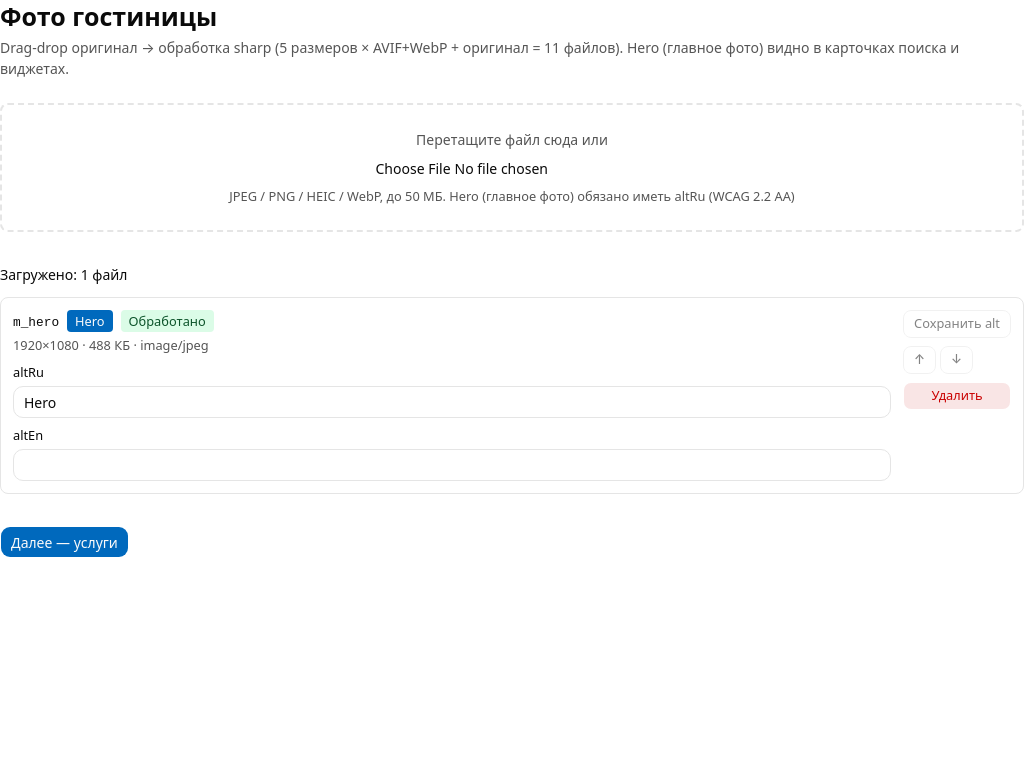
Scenario: <MediaStep> — delete confirm dialog › [Dc4] hero photo → dialog shows extra hero-loss warning
Click the button "Удалить" at (957, 396), box left=903, top=382, right=1011, bottom=410
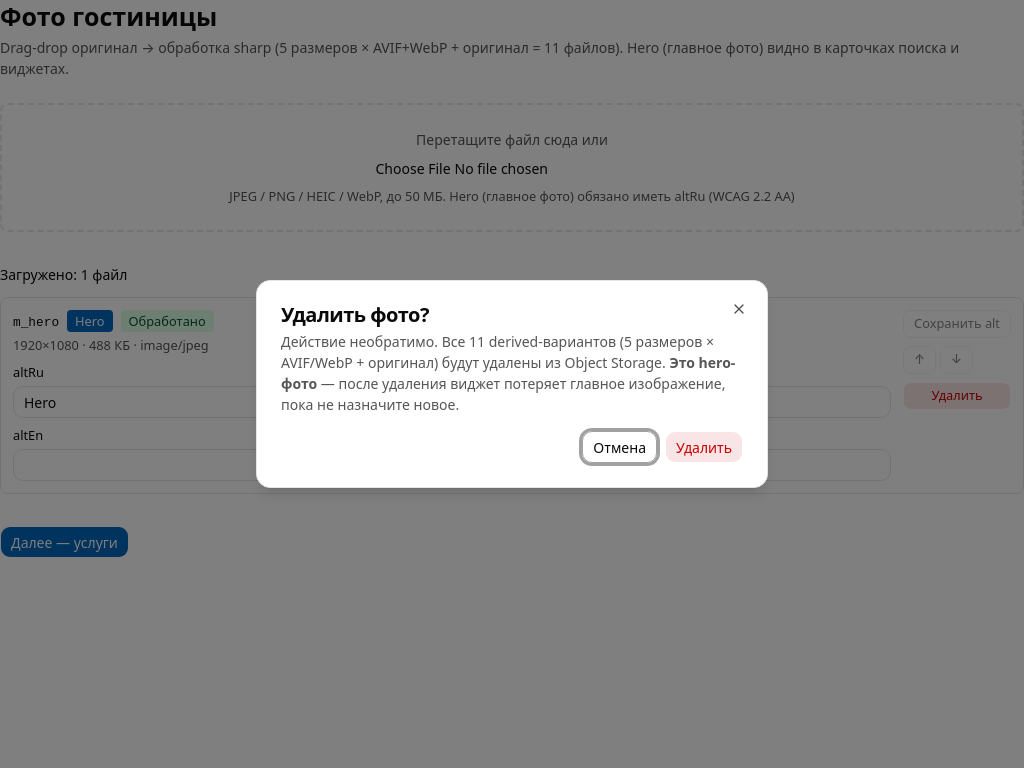
Now the text "Это hero-фото" is shown, box left=281, top=353, right=735, bottom=393
